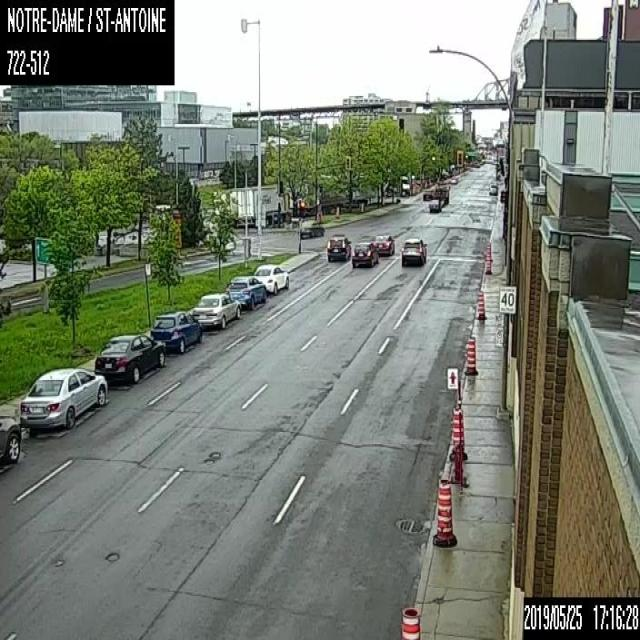construction: (432, 476, 458, 548), (448, 403, 468, 460), (398, 604, 421, 639), (464, 334, 479, 374), (477, 289, 488, 320), (483, 240, 492, 275)
vehicle: (19, 367, 106, 429), (94, 332, 165, 383), (236, 184, 292, 224), (150, 311, 202, 352), (191, 291, 240, 329), (225, 274, 266, 310), (252, 263, 289, 295), (0, 416, 21, 467), (399, 233, 426, 266), (351, 240, 378, 267), (326, 233, 351, 260), (369, 233, 394, 255), (299, 217, 324, 239), (428, 198, 441, 210), (488, 184, 496, 194)
